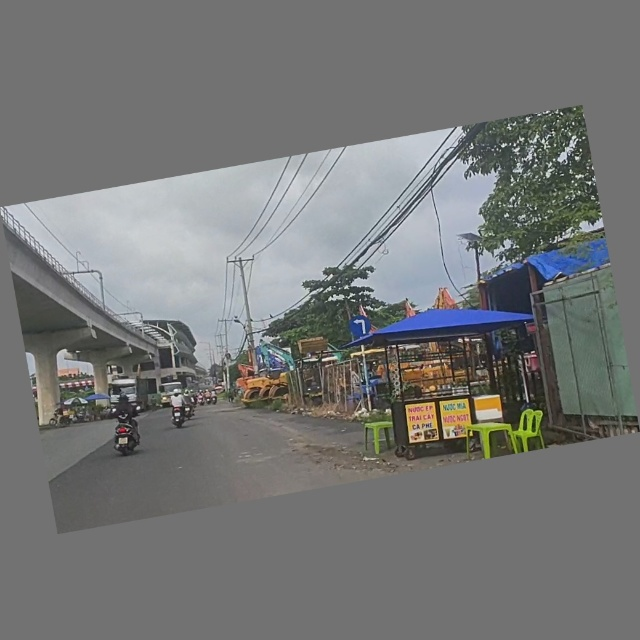R.301e: (347, 313, 373, 340)
